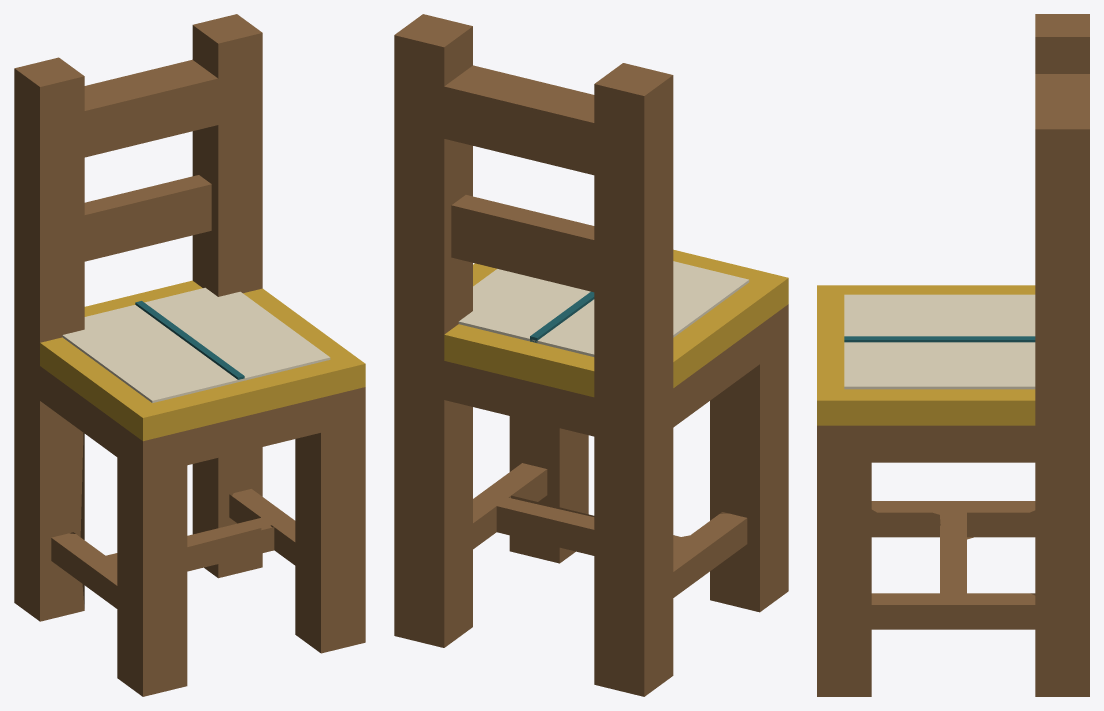
Rendered from chairCushion.glb.
The picture shows the model from 3 angles, left to right: view 1: azimuth 30°, elevation 25°; view 2: azimuth 150°, elevation 25°; view 3: azimuth 270°, elevation 25°; orthographic projection. The views are drawn at different scales.
Visible parts, largest first — view 1: chairCushion(Clone); view 2: chairCushion(Clone); view 3: chairCushion(Clone).
Boxes of the visible parts, bbox=[...] form: chairCushion(Clone): bbox=[14, 14, 365, 696]; chairCushion(Clone): bbox=[394, 14, 788, 696]; chairCushion(Clone): bbox=[817, 14, 1089, 696].
Size of the model in its own units: 0.2 by 0.46 by 0.2.
